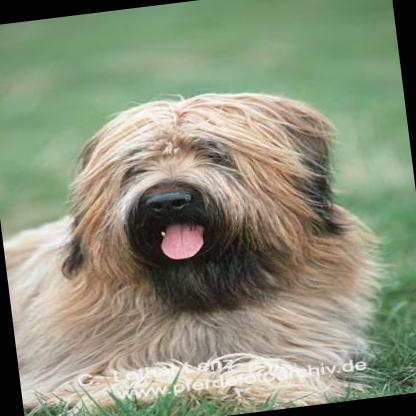briard: (0, 69, 399, 416)
